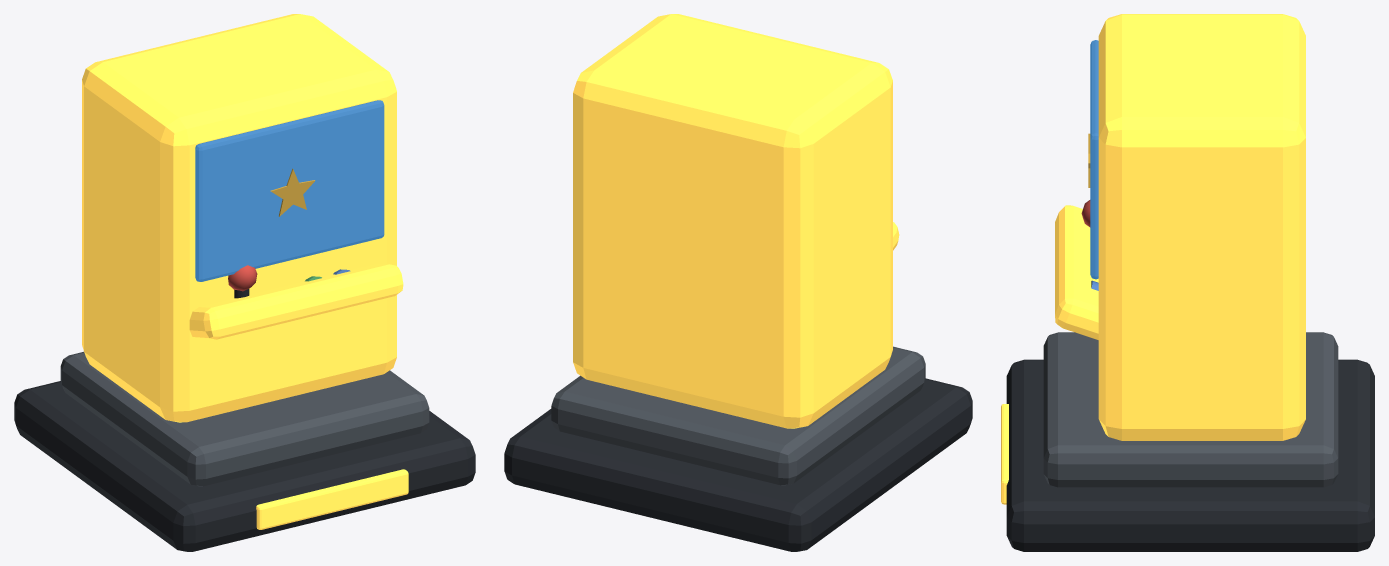
The model's file is trofeu-console.glb.
3 renders of one model, left to right at view 1: azimuth 30°, elevation 25°; view 2: azimuth 150°, elevation 25°; view 3: azimuth 270°, elevation 25°, orthographic. The views are drawn at different scales.
Parts seen in each view (by area): view 1: trofeu-console; view 2: trofeu-console; view 3: trofeu-console.
Boxes of the visible parts, x1,y1,x2,y2 form: trofeu-console: (14,14,475,551); trofeu-console: (504,14,972,551); trofeu-console: (1001,14,1374,551).
Size of the model in its own units: 0.64 by 0.796 by 0.65.
